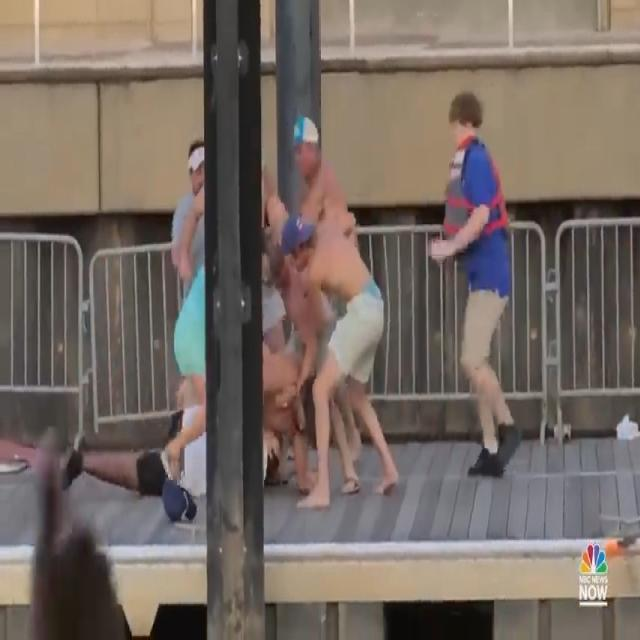fight: (58, 113, 410, 515)
non-fight: (425, 86, 533, 486)
